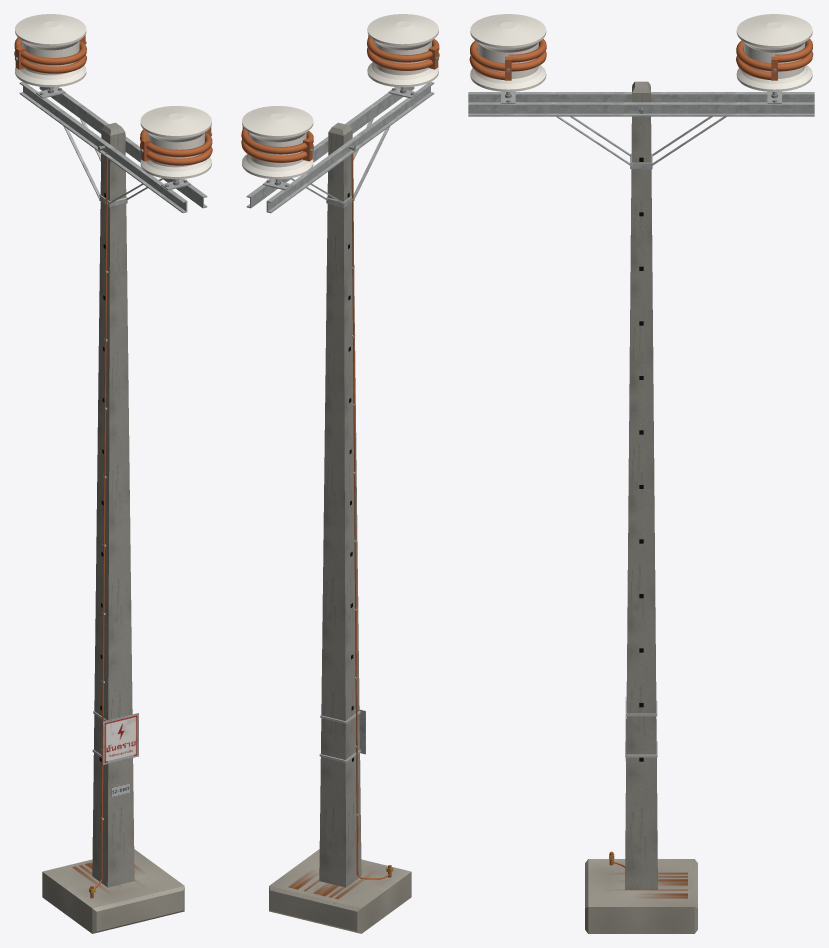
File: PowerPole.glb
3 renders of one model, left to right at view 1: azimuth 30°, elevation 25°; view 2: azimuth 150°, elevation 25°; view 3: azimuth 270°, elevation 25°, orthographic. The views are drawn at different scales.
Visible parts, largest first — view 1: PO_Pole_PoleConcrete, PO_Insulators_Porcelain, PO_Pole_Concrete, PO_Crossarm_Galv, PO_Details_Copper, PO_Coil2_Copper, PO_Coil1_Copper, PO_Details_SignDanger; view 2: PO_Pole_PoleConcrete, PO_Insulators_Porcelain, PO_Pole_Concrete, PO_Crossarm_Galv, PO_Details_Copper, PO_Coil1_Copper, PO_Coil2_Copper, PO_Pole_Rust; view 3: PO_Pole_PoleConcrete, PO_Crossarm_Galv, PO_Insulators_Porcelain, PO_Pole_Concrete, PO_Coil2_Copper, PO_Coil1_Copper.
Part boxes in pixels (bbox=[...]): PO_Pole_PoleConcrete: bbox=[92, 122, 134, 887]; PO_Insulators_Porcelain: bbox=[15, 14, 211, 179]; PO_Pole_Concrete: bbox=[42, 849, 184, 933]; PO_Crossarm_Galv: bbox=[19, 82, 207, 213]; PO_Details_Copper: bbox=[90, 152, 107, 898]; PO_Coil2_Copper: bbox=[140, 126, 212, 165]; PO_Coil1_Copper: bbox=[14, 35, 86, 73]; PO_Details_SignDanger: bbox=[104, 714, 137, 763]; PO_Pole_PoleConcrete: bbox=[319, 122, 361, 887]; PO_Insulators_Porcelain: bbox=[242, 14, 438, 179]; PO_Pole_Concrete: bbox=[269, 849, 411, 933]; PO_Crossarm_Galv: bbox=[246, 82, 434, 213]; PO_Details_Copper: bbox=[351, 153, 391, 879]; PO_Coil1_Copper: bbox=[241, 126, 313, 162]; PO_Coil2_Copper: bbox=[367, 35, 439, 70]; PO_Pole_Rust: bbox=[288, 872, 369, 899]; PO_Pole_PoleConcrete: bbox=[625, 81, 657, 889]; PO_Crossarm_Galv: bbox=[468, 91, 814, 169]; PO_Insulators_Porcelain: bbox=[470, 14, 812, 91]; PO_Pole_Concrete: bbox=[585, 859, 697, 933]; PO_Coil2_Copper: bbox=[469, 39, 546, 80]; PO_Coil1_Copper: bbox=[736, 38, 813, 80].
Size of the model in its own units: 1.7 by 14.66 by 5.2.
12 materials, 6 textured.
